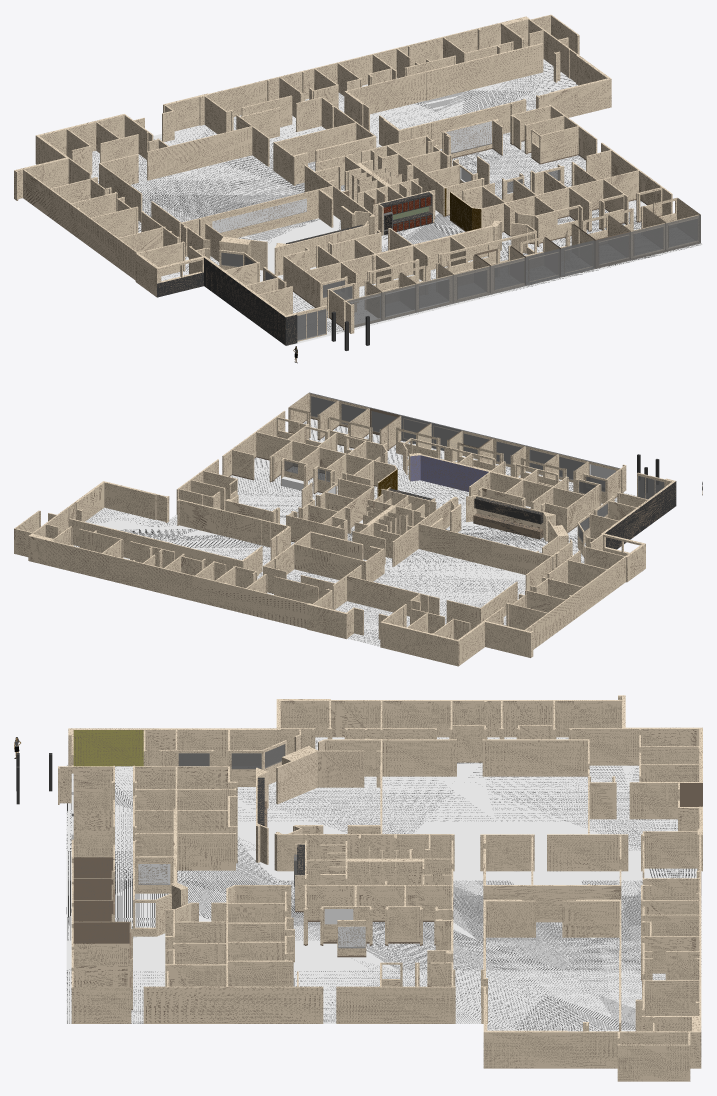
Rendered from willow_garage.dae.
3 renders of one model, top to bottom at view 1: azimuth 30°, elevation 25°; view 2: azimuth 150°, elevation 25°; view 3: azimuth 270°, elevation 25°, orthographic. The views are drawn at different scales.
Visible parts, largest first — view 1: Component (×43), skpWsJKW0; view 2: Component (×27), skpWsJKW0; view 3: Component (×26), skpWsJKW0.
Part boxes in pixels (left/top/right/bottom): Component (×43): left=14, top=14, right=700, bottom=345; skpWsJKW0: left=91, top=59, right=702, bottom=346; Component (×27): left=14, top=392, right=676, bottom=666; skpWsJKW0: left=73, top=419, right=636, bottom=646; Component (×26): left=58, top=695, right=702, bottom=1081; skpWsJKW0: left=66, top=737, right=697, bottom=1031.
Bounding box in the file's own units: 2308 × 1921 × 112.
